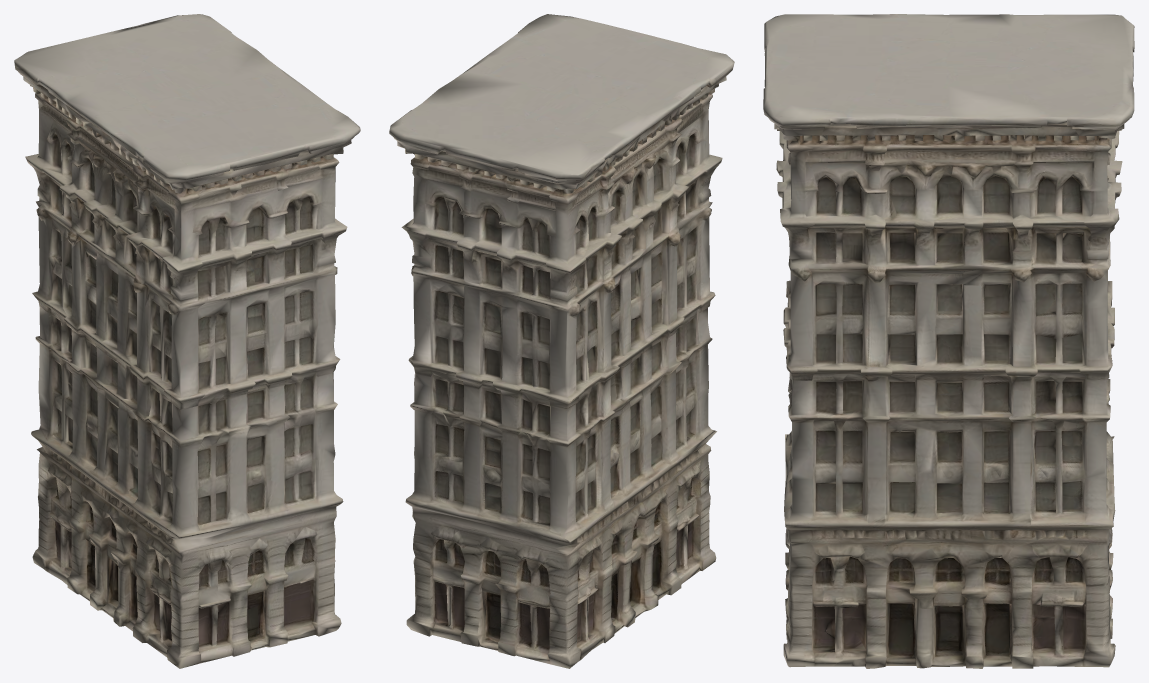
File: bld1_hi.glb
3 views of the same model, side by side, from view 1: azimuth 30°, elevation 25°; view 2: azimuth 150°, elevation 25°; view 3: azimuth 270°, elevation 25° (orthographic). The views are drawn at different scales.
Visible parts, largest first — view 1: tripo_node_e2f7222b-f030-4798-9ff1-ed135497233a; view 2: tripo_node_e2f7222b-f030-4798-9ff1-ed135497233a; view 3: tripo_node_e2f7222b-f030-4798-9ff1-ed135497233a.
Part boxes in pixels (<box>): tripo_node_e2f7222b-f030-4798-9ff1-ed135497233a: <box>14,14,360,668</box>; tripo_node_e2f7222b-f030-4798-9ff1-ed135497233a: <box>389,14,734,668</box>; tripo_node_e2f7222b-f030-4798-9ff1-ed135497233a: <box>763,14,1134,668</box>.
Size of the model in its own units: 0.4045 by 0.9986 by 0.6006.
Materials: 1 (1 with a texture image).
